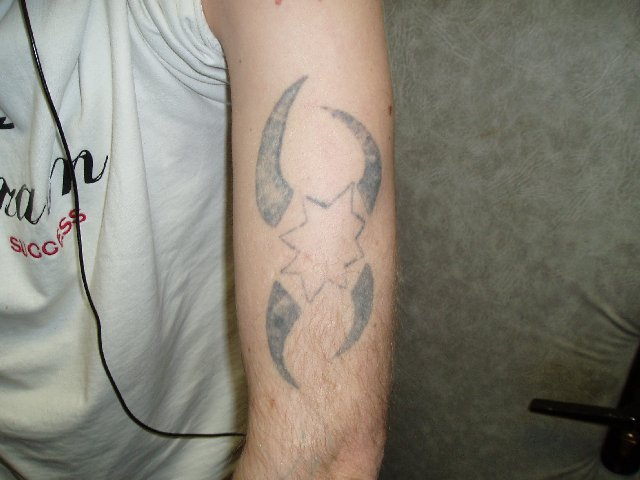tatu4_zvezda: (267, 181, 374, 311)
